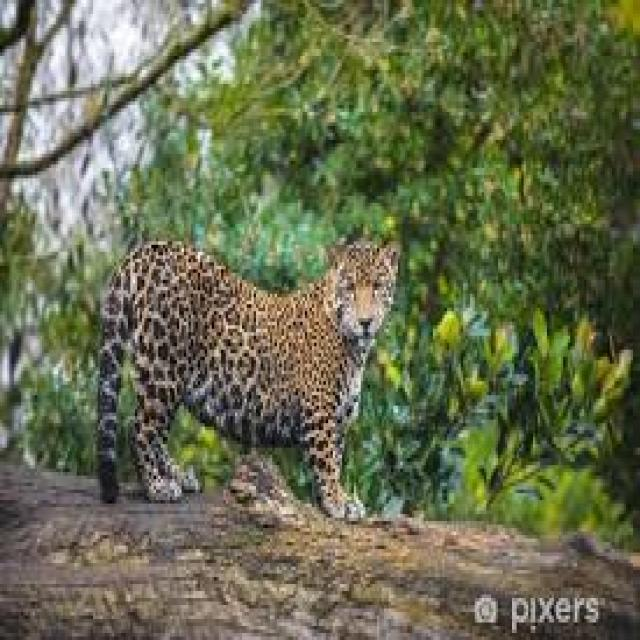Jaguar: (91, 216, 391, 524)
